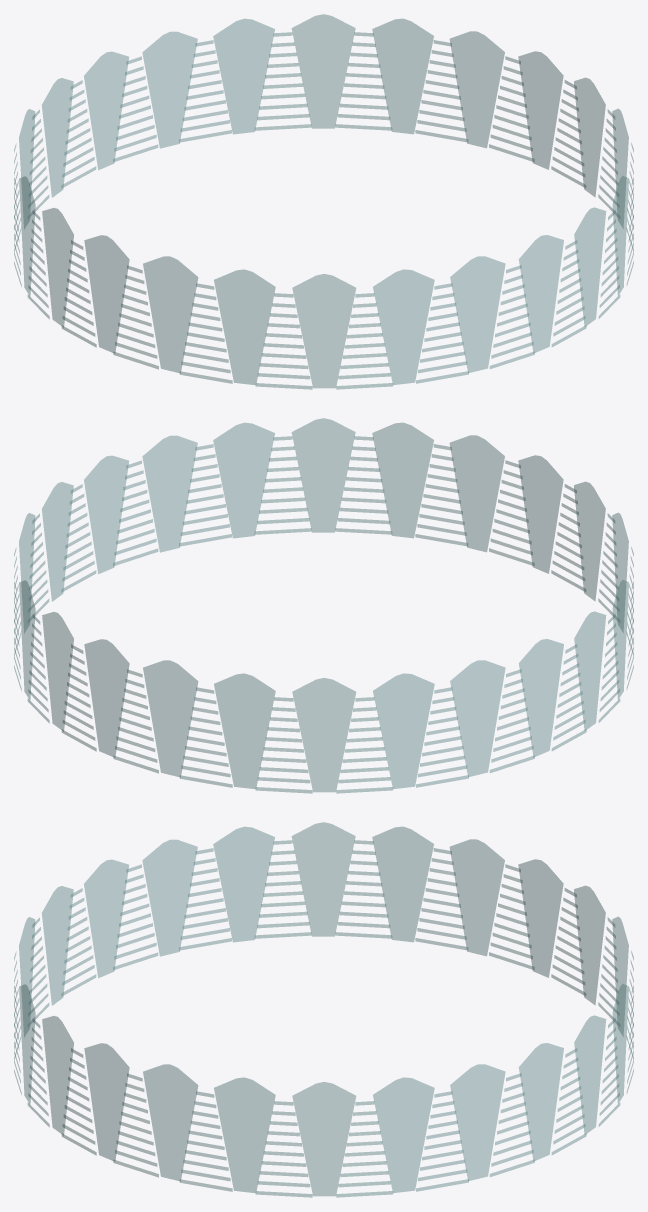
Rendered from m_arena_glass.fbx.
3 views of the same model, one above another, from view 1: azimuth 30°, elevation 25°; view 2: azimuth 150°, elevation 25°; view 3: azimuth 270°, elevation 25° (orthographic).
Visible parts, largest first — view 1: pPlane30; view 2: pPlane30; view 3: pPlane30.
Part boxes in pixels (x1,y1,x2,y2): pPlane30: (14, 14, 633, 389); pPlane30: (14, 418, 633, 793); pPlane30: (14, 822, 633, 1197).
Bounding box in the file's own units: 158 × 32.17 × 158.
